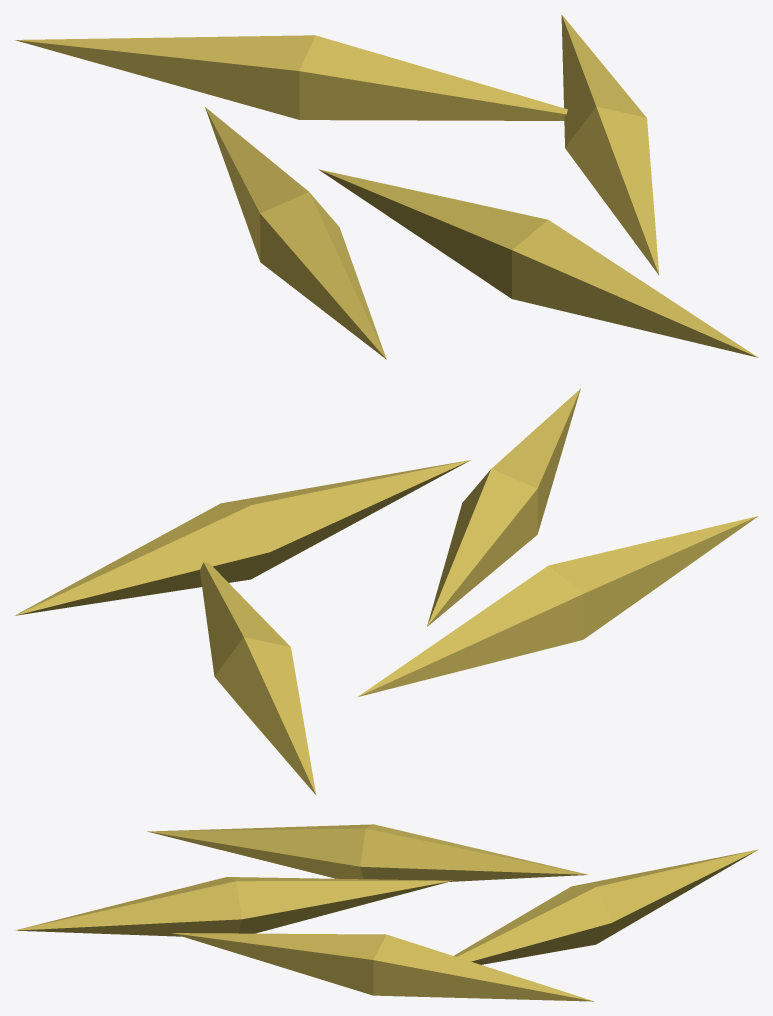
File: seed.fbx
The picture shows the model from 3 angles, top to bottom: view 1: azimuth 30°, elevation 25°; view 2: azimuth 150°, elevation 25°; view 3: azimuth 270°, elevation 25°; orthographic projection. The views are drawn at different scales.
Parts seen in each view (by area): view 1: pPyramid6, pPyramid3, pPyramid5, pPyramid4; view 2: pPyramid4, pPyramid5, pPyramid3, pPyramid6; view 3: pPyramid3, pPyramid4, pPyramid5, pPyramid6.
Part boxes in pixels (bbox=[...]): pPyramid6: bbox=[15, 35, 567, 120]; pPyramid3: bbox=[318, 169, 758, 357]; pPyramid5: bbox=[205, 107, 386, 359]; pPyramid4: bbox=[561, 14, 659, 275]; pPyramid4: bbox=[14, 460, 470, 615]; pPyramid5: bbox=[358, 516, 758, 696]; pPyramid3: bbox=[427, 388, 580, 626]; pPyramid6: bbox=[200, 562, 316, 795]; pPyramid3: bbox=[15, 877, 452, 936]; pPyramid4: bbox=[171, 933, 594, 1001]; pPyramid5: bbox=[147, 824, 588, 881]; pPyramid6: bbox=[454, 849, 758, 964].
Size of the model in its own units: 0.2784 by 0.0442 by 0.5117.
